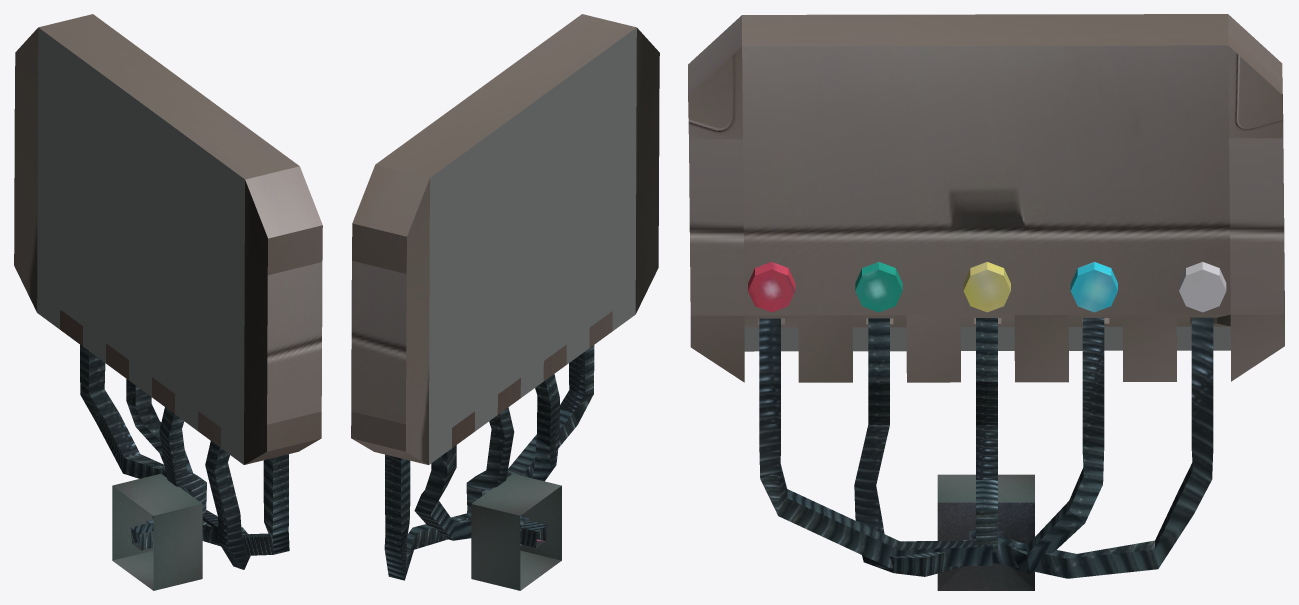
File: CikisAygit.fbx
The picture shows the model from 3 angles, left to right: view 1: azimuth 30°, elevation 25°; view 2: azimuth 150°, elevation 25°; view 3: azimuth 270°, elevation 25°; orthographic projection. The views are drawn at different scales.
Visible parts, largest first — view 1: CikisAygitModel, FisGiris, Kablo_4, Kablo_1, Kablo_0, Kablo_2, Kablo_3; view 2: CikisAygitModel, FisGiris, Kablo_4, Kablo_1, Kablo_0, Kablo_3, Kablo_2; view 3: CikisAygitModel, Kablo_0, Kablo_4, FisGiris, Kablo_3, Kablo_1, Kablo_2, CikisAygitModel.002, CikisAygitModel.003, CikisAygitModel.005, CikisAygitModel.001, CikisAygitModel.004.
Part boxes in pixels (x1,y1,x2,y2): CikisAygitModel: [14, 14, 322, 464]; FisGiris: [112, 473, 202, 590]; Kablo_4: [80, 345, 166, 519]; Kablo_1: [130, 441, 250, 569]; Kablo_0: [202, 454, 289, 555]; Kablo_2: [159, 407, 206, 513]; Kablo_3: [126, 379, 192, 524]; CikisAygitModel: [351, 14, 659, 464]; FisGiris: [471, 473, 561, 590]; Kablo_4: [384, 454, 524, 580]; Kablo_1: [520, 374, 559, 547]; Kablo_0: [467, 345, 594, 512]; Kablo_3: [414, 445, 529, 540]; Kablo_2: [466, 407, 522, 546]; CikisAygitModel: [688, 14, 1284, 382]; Kablo_0: [759, 318, 992, 568]; Kablo_4: [971, 317, 1213, 578]; FisGiris: [937, 474, 1034, 590]; Kablo_3: [998, 318, 1104, 573]; Kablo_1: [854, 318, 971, 576]; Kablo_2: [976, 318, 997, 552]; CikisAygitModel.002: [855, 262, 902, 312]; CikisAygitModel.003: [963, 262, 1010, 312]; CikisAygitModel.005: [1179, 262, 1226, 312]; CikisAygitModel.001: [748, 262, 795, 312]; CikisAygitModel.004: [1070, 262, 1117, 312].
Bounding box in the file's own units: 87.66 × 411 × 402.
